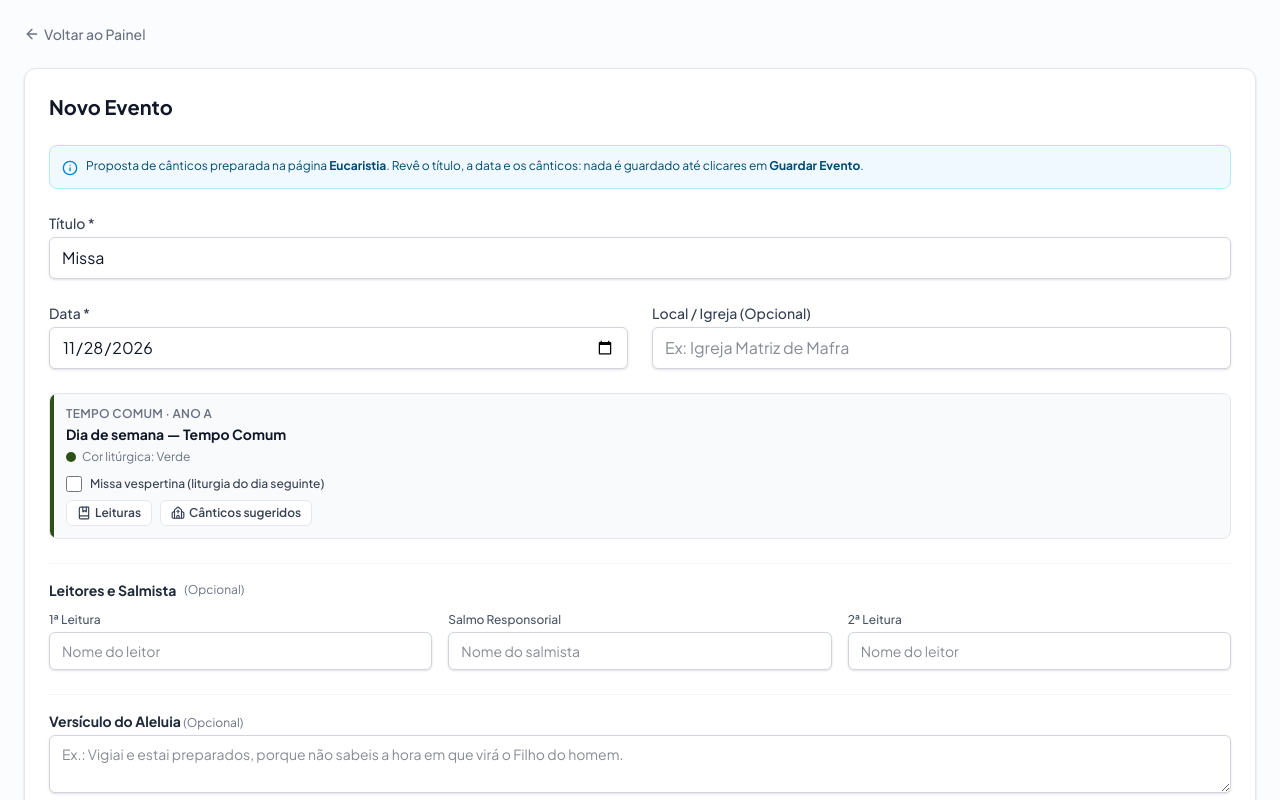
EventEditor — liturgia da data e missa vespertina › mostra o tempo litúrgico da data; num sábado à tarde passa para a liturgia de domingo
Expected: the element named "Liturgia da data do evento" shows "Dia de semana — Tempo Comum", x1=66 y1=425 x2=286 y2=443
Expected: the element named "Liturgia da data do evento" shows "Ano A", x1=49 y1=393 x2=1231 y2=539
Click the checkbox labelled "Missa vespertina (liturgia do dia seguinte)" at [74, 484], box x1=66 y1=476 x2=82 y2=492
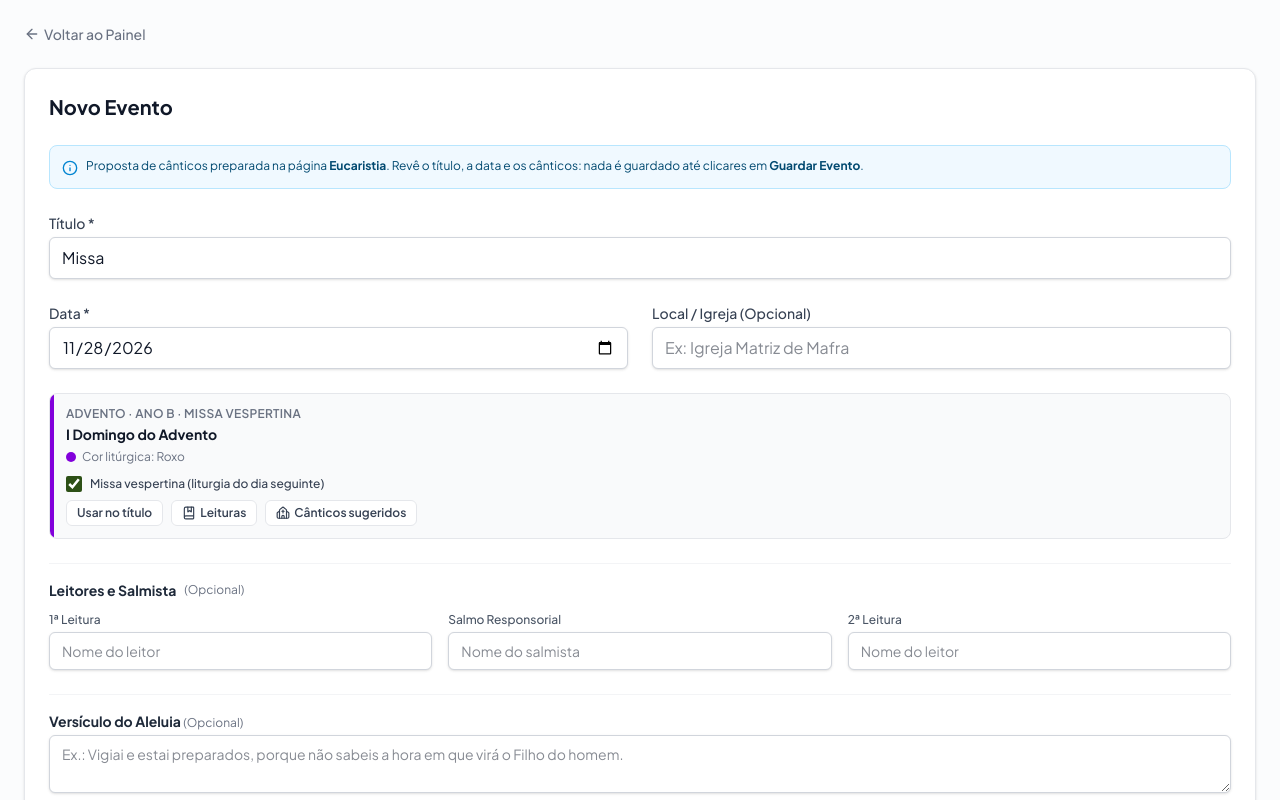
Expected: the element named "Liturgia da data do evento" shows "I Domingo do Advento", x1=66 y1=425 x2=217 y2=443
Expected: the element named "Liturgia da data do evento" shows "Advento · Ano B · Missa vespertina", x1=49 y1=393 x2=1231 y2=539
Expected: the element named "Liturgia da data do evento" shows "Cor litúrgica: Roxo", x1=49 y1=393 x2=1231 y2=539
Click the button "Usar no título" at [115, 513], box x1=66 y1=500 x2=163 y2=526
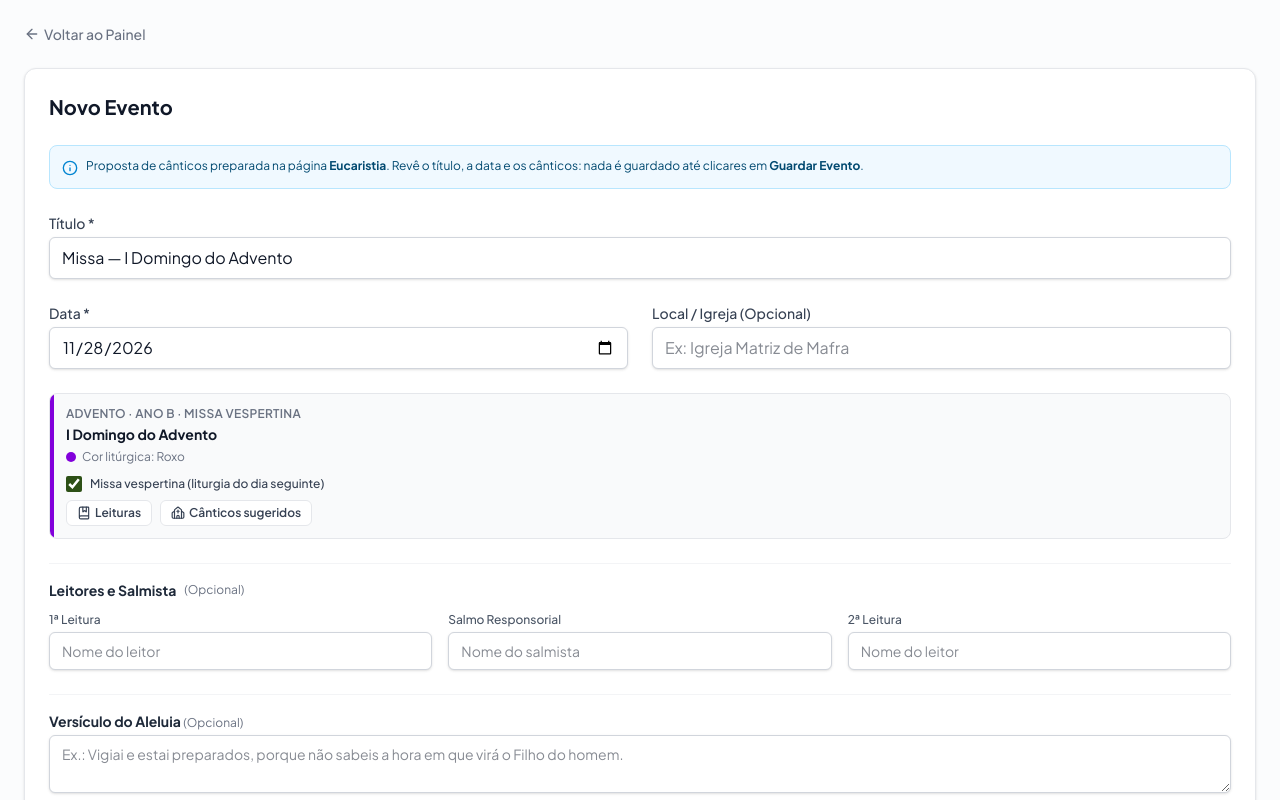
Expected: the field with placeholder "Ex: Missa de Promessas" holds "Missa — I Domingo do Advento", x1=49 y1=237 x2=1231 y2=279
Expected: the button "Usar no título" is gone
